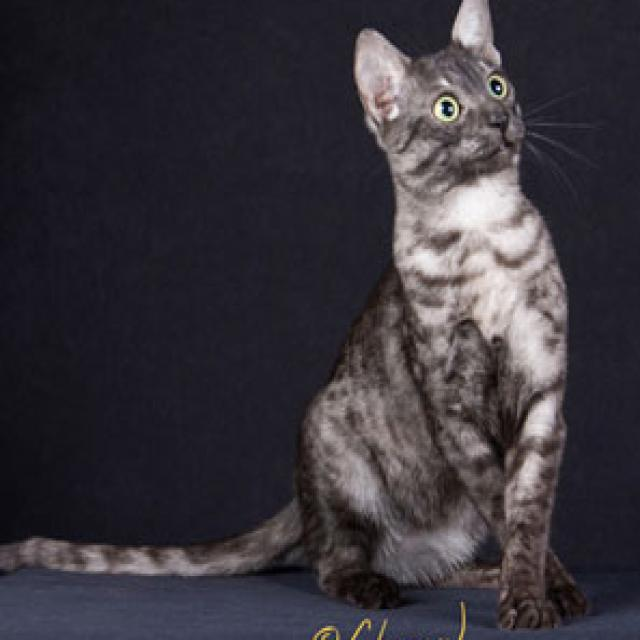Egyptian Mau: (0, 0, 590, 633)
